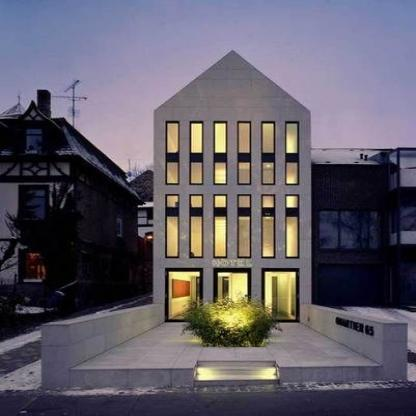Building Outline: (41, 50, 407, 391)
Door: (218, 272, 248, 320)
Facade: (41, 49, 407, 391)
Floor Slab: (154, 153, 311, 162), (154, 259, 311, 268), (154, 208, 311, 217)
Glass Wall: (266, 272, 296, 319), (169, 272, 199, 319), (286, 196, 298, 256), (262, 196, 274, 256), (286, 123, 298, 183), (262, 123, 274, 183), (167, 196, 178, 256), (191, 196, 202, 256), (215, 196, 226, 256), (239, 196, 250, 256), (167, 123, 178, 183), (191, 123, 202, 183), (215, 123, 226, 183), (239, 123, 250, 183)
Shop: (335, 317, 375, 337), (212, 259, 253, 268)
